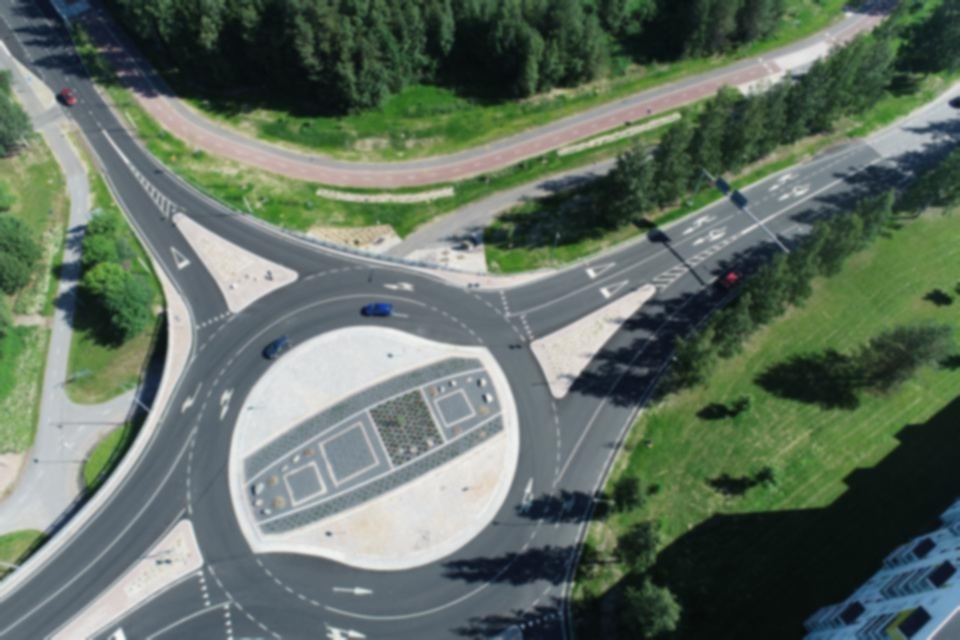roundabout: (126, 233, 630, 640)
